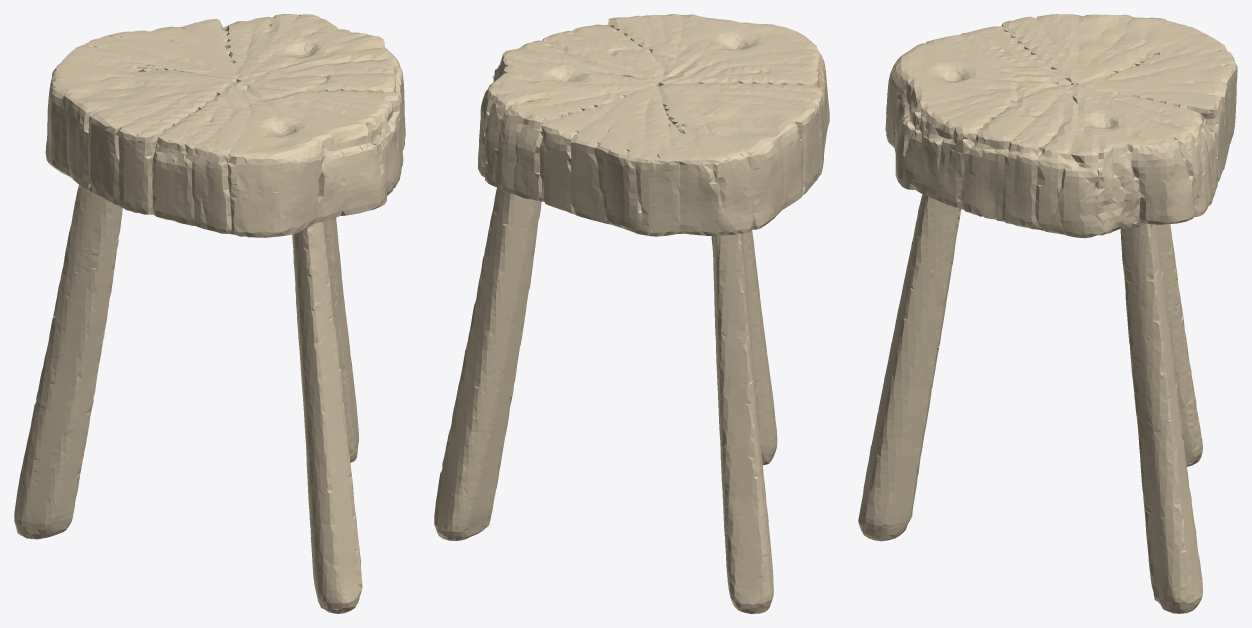
The model's file is stolform-09.glb.
The picture shows the model from 3 angles, left to right: view 1: azimuth 30°, elevation 25°; view 2: azimuth 150°, elevation 25°; view 3: azimuth 270°, elevation 25°; orthographic projection.
Parts seen in each view (by area): view 1: stolform-09; view 2: stolform-09; view 3: stolform-09.
Part boxes in pixels (bbox=[...]): stolform-09: bbox=[14, 14, 405, 613]; stolform-09: bbox=[434, 14, 829, 613]; stolform-09: bbox=[858, 14, 1237, 613].
Size of the model in its own units: 0.7718 by 0.9996 by 0.7556.
